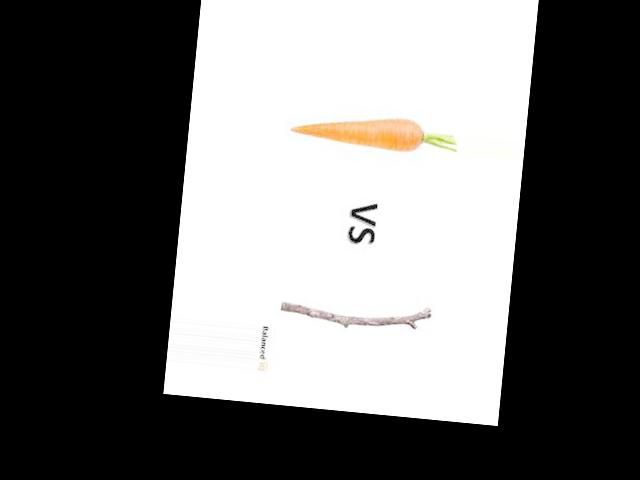carrot: (284, 101, 428, 163)
